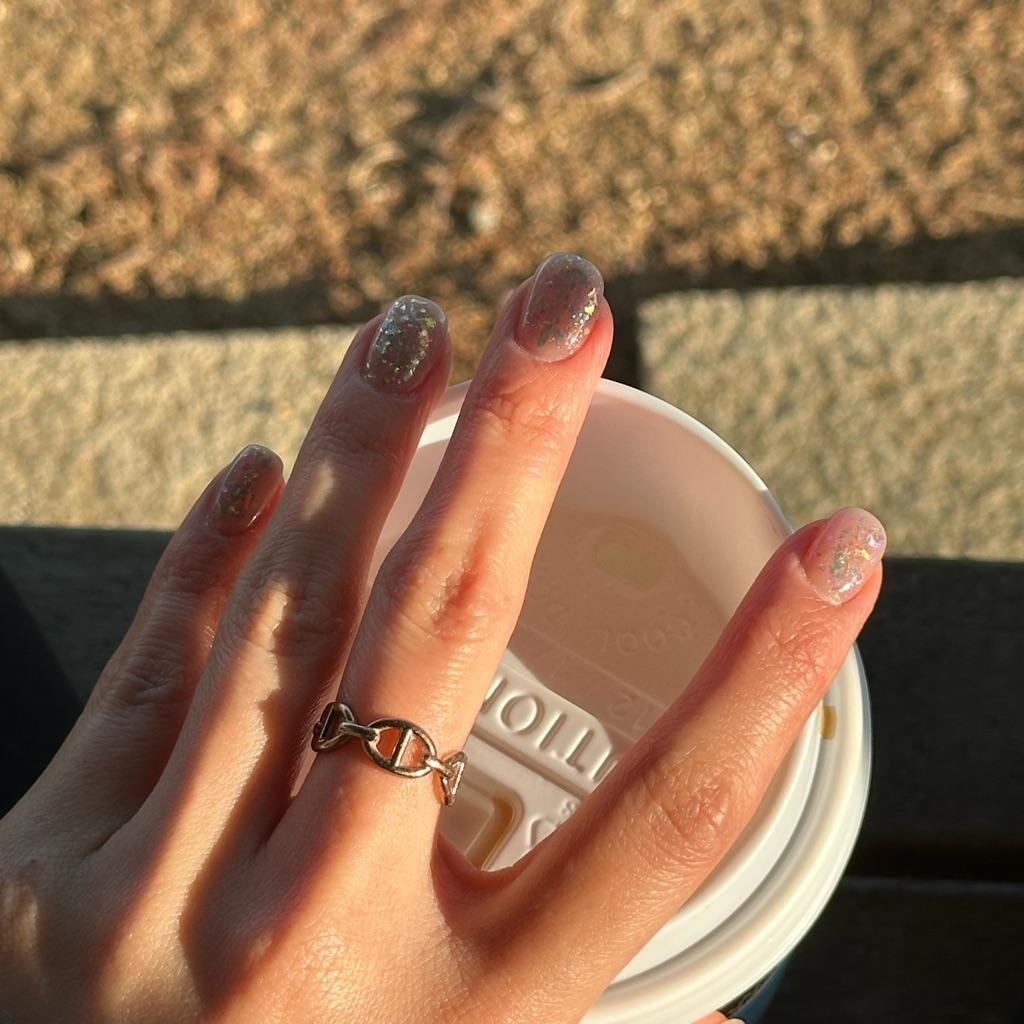nail: (512, 250, 604, 363), (361, 292, 447, 395), (801, 504, 887, 606), (210, 441, 283, 534)
